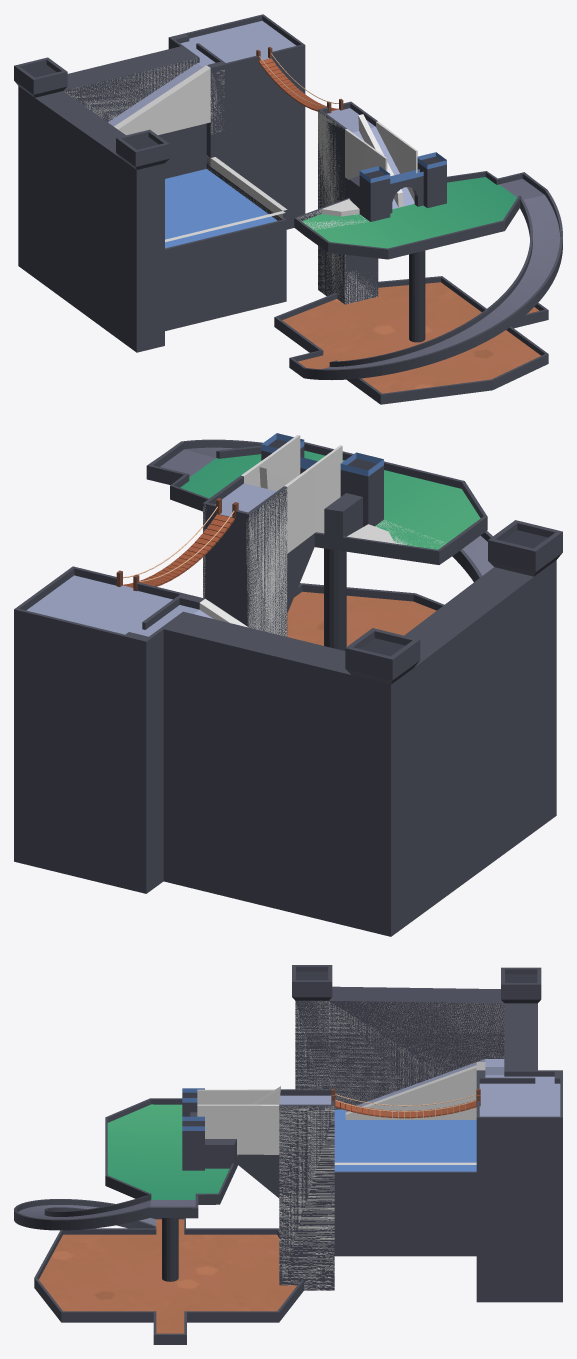
The model's file is level_3.glb.
The picture shows the model from 3 angles, top to bottom: view 1: azimuth 30°, elevation 25°; view 2: azimuth 150°, elevation 25°; view 3: azimuth 270°, elevation 25°; orthographic projection. The views are drawn at different scales.
Parts seen in each view (by area): view 1: Cube, dungeon, throne_room, gate_house, gates, spiral_stairs, gate_end, throne_room.001, gates.001, gate_end.001, Cube.001, bridge (+2 smaller); view 2: Cube, gate_house, gates, gate_end, dungeon, gates.001, gate_end.001, spiral_stairs, bridge, rope; view 3: Cube, dungeon, throne_room, gate_house, gates, gate_end, gate_end.001, Cube.001, spiral_stairs, gates.001, throne_room.001, bridge (+1 smaller).
Boxes of the visible parts, x1,y1,x2,y2 form: Cube: (14, 46, 197, 352); dungeon: (274, 250, 548, 404); throne_room: (108, 63, 286, 330); gate_house: (168, 14, 305, 229); gates: (294, 152, 520, 259); spiral_stairs: (303, 172, 562, 379); gate_end: (318, 101, 378, 304); throne_room.001: (114, 65, 287, 242); gates.001: (297, 121, 417, 229); gate_end.001: (318, 110, 377, 304); Cube.001: (64, 58, 197, 120); bridge: (259, 58, 338, 111); Cube: (163, 520, 562, 936); gate_house: (14, 566, 204, 893); gates: (170, 433, 487, 612); gate_end: (203, 475, 287, 636); dungeon: (287, 548, 444, 650); gates.001: (241, 435, 445, 553); gate_end.001: (203, 488, 287, 636); spiral_stairs: (146, 439, 493, 581); bridge: (123, 514, 234, 587); rope: (116, 498, 238, 591); Cube: (292, 965, 541, 1109); dungeon: (34, 1218, 303, 1344); throne_room: (334, 1059, 504, 1256); gate_house: (476, 1070, 562, 1302); gates: (105, 1088, 279, 1204); gate_end: (279, 1089, 334, 1290); gate_end.001: (279, 1106, 334, 1290); Cube.001: (295, 1001, 504, 1109); spiral_stairs: (14, 1194, 198, 1230); gates.001: (197, 1089, 279, 1154); throne_room.001: (334, 1062, 485, 1164); bridge: (335, 1099, 476, 1118).
Size of what is drawn, in the model's own units: 146 by 82 by 197.
1 material, 1 textured.
